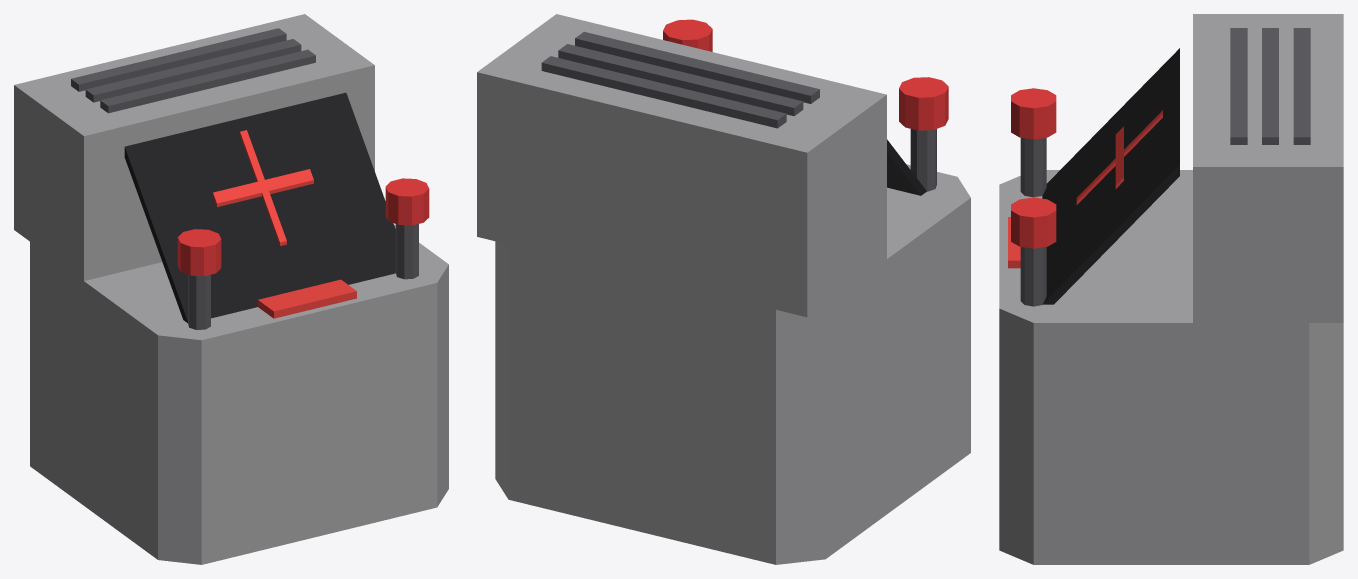
The model's file is vge_e_targeting_terminal.obj.
The picture shows the model from 3 angles, left to right: view 1: azimuth 30°, elevation 25°; view 2: azimuth 150°, elevation 25°; view 3: azimuth 270°, elevation 25°; orthographic projection. The views are drawn at different scales.
Visible parts, largest first — view 1: vge_targeting_terminal_0, vge_targeting_terminal_2, vge_targeting_terminal_1, vge_targeting_terminal_5, vge_targeting_terminal_6, vge_targeting_terminal_7, vge_targeting_terminal_12, vge_targeting_terminal_11, vge_targeting_terminal_9, vge_targeting_terminal_3, vge_targeting_terminal_10, vge_targeting_terminal_8 (+1 smaller); view 2: vge_targeting_terminal_0, vge_targeting_terminal_1, vge_targeting_terminal_7, vge_targeting_terminal_6, vge_targeting_terminal_5, vge_targeting_terminal_9, vge_targeting_terminal_8, vge_targeting_terminal_11, vge_targeting_terminal_2; view 3: vge_targeting_terminal_0, vge_targeting_terminal_1, vge_targeting_terminal_2, vge_targeting_terminal_11, vge_targeting_terminal_9, vge_targeting_terminal_5, vge_targeting_terminal_7, vge_targeting_terminal_6, vge_targeting_terminal_10, vge_targeting_terminal_8, vge_targeting_terminal_4, vge_targeting_terminal_3.
Boxes of the visible parts, x1,y1,x2,y2 form: vge_targeting_terminal_0: (30, 224, 448, 564); vge_targeting_terminal_2: (124, 92, 395, 322); vge_targeting_terminal_1: (14, 14, 374, 280); vge_targeting_terminal_5: (100, 49, 315, 113); vge_targeting_terminal_6: (85, 39, 301, 102); vge_targeting_terminal_7: (71, 28, 286, 91); vge_targeting_terminal_12: (258, 279, 356, 318); vge_targeting_terminal_11: (385, 178, 429, 225); vge_targeting_terminal_9: (177, 229, 221, 276); vge_targeting_terminal_3: (213, 169, 313, 206); vge_targeting_terminal_10: (395, 224, 418, 279); vge_targeting_terminal_8: (188, 274, 210, 329); vge_targeting_terminal_0: (495, 164, 970, 564); vge_targeting_terminal_1: (477, 14, 886, 317); vge_targeting_terminal_7: (541, 56, 786, 128); vge_targeting_terminal_6: (558, 44, 803, 116); vge_targeting_terminal_5: (575, 31, 819, 103); vge_targeting_terminal_9: (899, 77, 948, 130); vge_targeting_terminal_8: (910, 129, 936, 191); vge_targeting_terminal_11: (663, 19, 712, 51); vge_targeting_terminal_2: (887, 139, 926, 195); vge_targeting_terminal_0: (999, 170, 1343, 564); vge_targeting_terminal_1: (1193, 14, 1343, 322); vge_targeting_terminal_2: (1042, 48, 1179, 304); vge_targeting_terminal_11: (1011, 197, 1056, 248); vge_targeting_terminal_9: (1011, 88, 1056, 139); vge_targeting_terminal_5: (1230, 28, 1247, 144); vge_targeting_terminal_7: (1293, 28, 1310, 144); vge_targeting_terminal_6: (1262, 28, 1278, 144); vge_targeting_terminal_10: (1020, 247, 1046, 306); vge_targeting_terminal_8: (1020, 137, 1046, 197); vge_targeting_terminal_4: (1076, 110, 1162, 204); vge_targeting_terminal_3: (1115, 126, 1123, 188).
Size of the model in its own units: 0.84 by 1.04 by 0.8.
